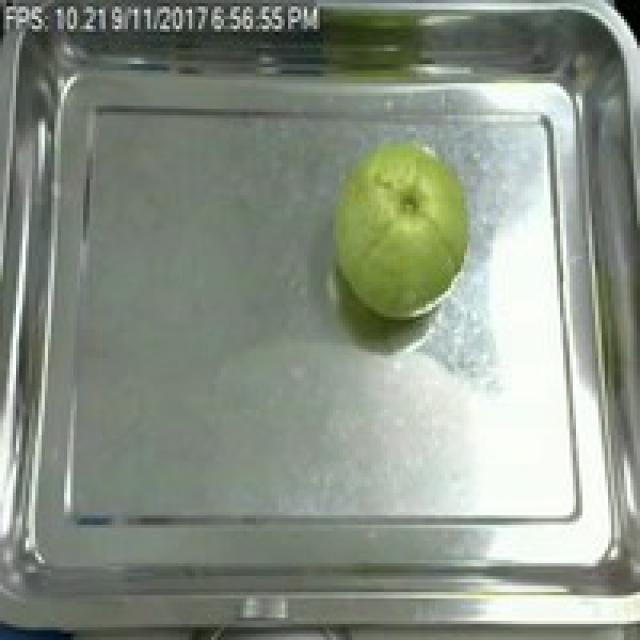Fruit: (320, 128, 483, 330)
